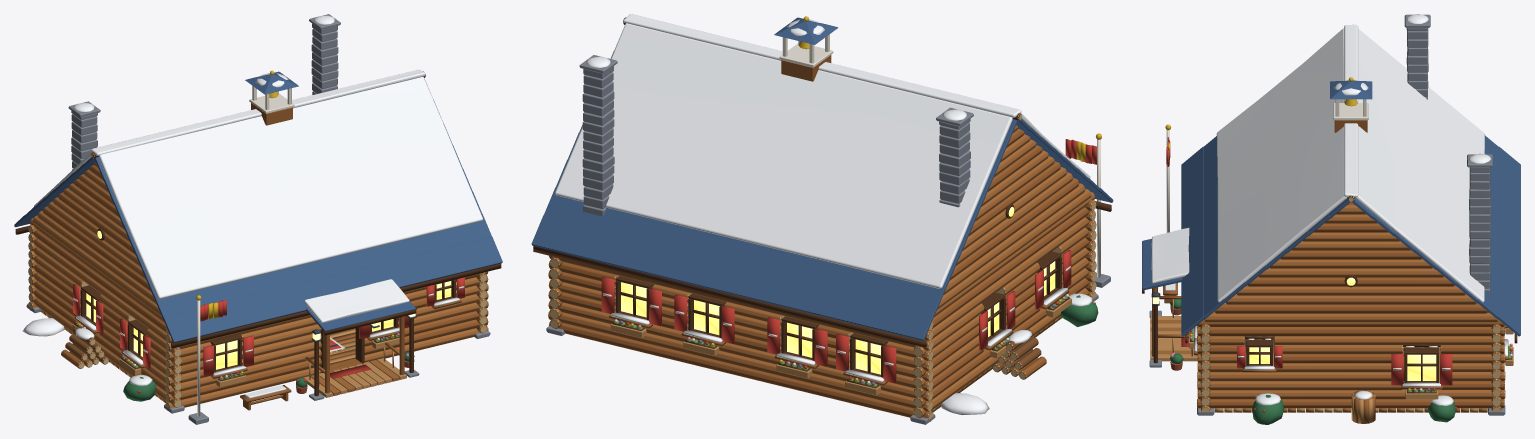
The model's file is hall.glb.
The picture shows the model from 3 angles, left to right: view 1: azimuth 30°, elevation 25°; view 2: azimuth 150°, elevation 25°; view 3: azimuth 270°, elevation 25°; orthographic projection. The views are drawn at different scales.
Visible parts, largest first — view 1: roof, walls, exterior, floor; view 2: roof, walls, exterior; view 3: roof, walls, exterior, floor.
Boxes of the visible parts, left/top/right/bottom form: roof: left=14, top=14, right=502, bottom=348; walls: left=26, top=218, right=490, bottom=413; exterior: left=22, top=295, right=419, bottom=424; floor: left=41, top=310, right=406, bottom=403; roof: left=531, top=14, right=1113, bottom=347; walls: left=546, top=192, right=1098, bottom=424; exterior: left=941, top=133, right=1110, bottom=414; roof: left=1142, top=14, right=1520, bottom=343; walls: left=1188, top=204, right=1513, bottom=415; exterior: left=1149, top=124, right=1457, bottom=424; floor: left=1150, top=316, right=1487, bottom=412.
Size of the model in its own units: 10.86 by 7.07 by 9.12.
